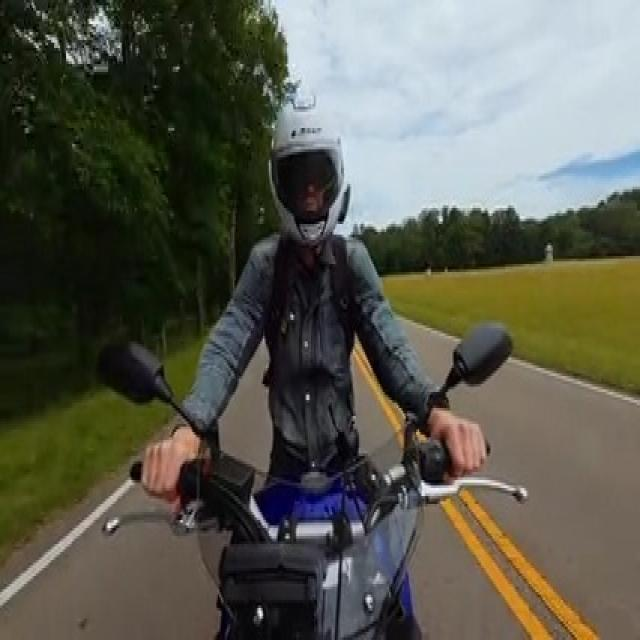Helmet_Wearer: (254, 84, 362, 249)
Person: (129, 76, 485, 496)
